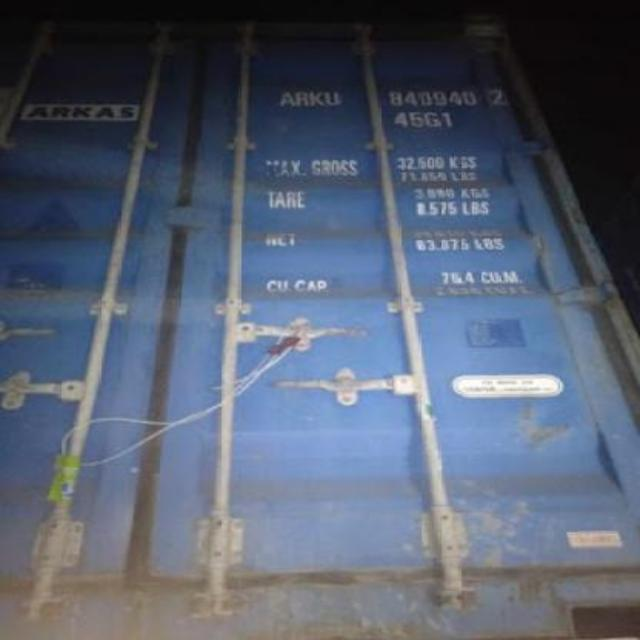0: (418, 90, 434, 106), (464, 89, 478, 107)
2: (490, 89, 508, 105)
4: (406, 92, 418, 105), (452, 92, 462, 105)
8: (386, 90, 404, 106)
9: (434, 87, 448, 105)
A: (278, 90, 294, 106)
K: (310, 89, 324, 107)
R: (296, 90, 308, 106)
U: (324, 90, 342, 108)
